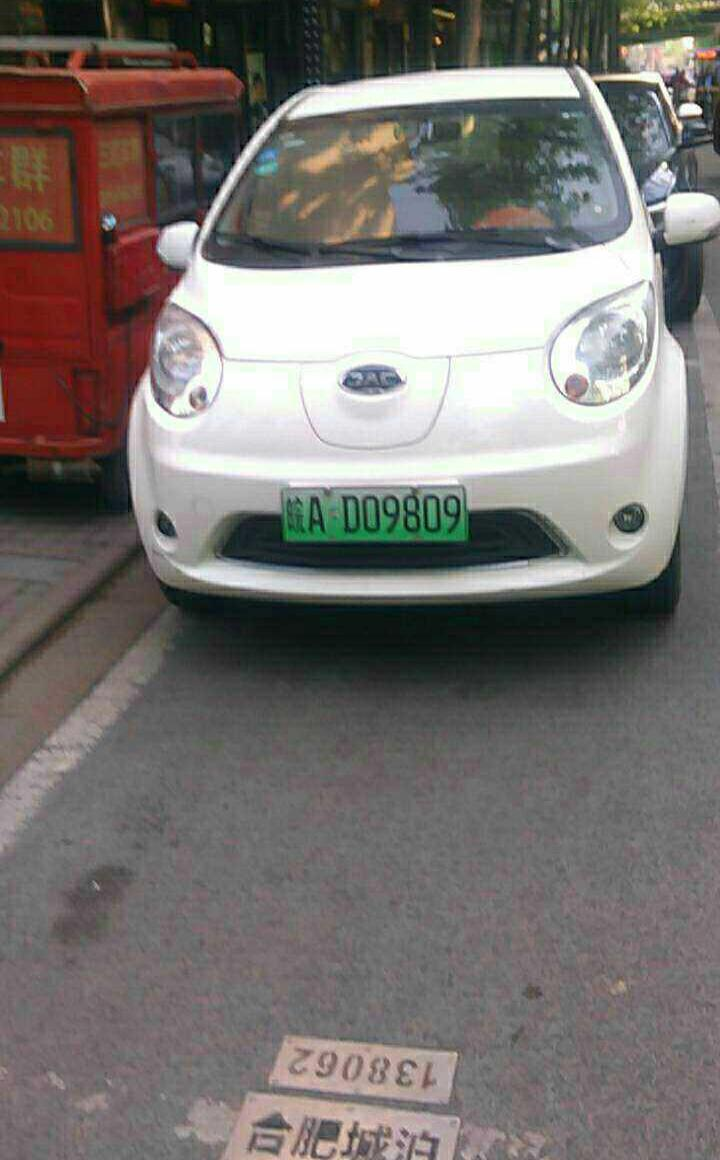car_id: (279, 483, 468, 542)
